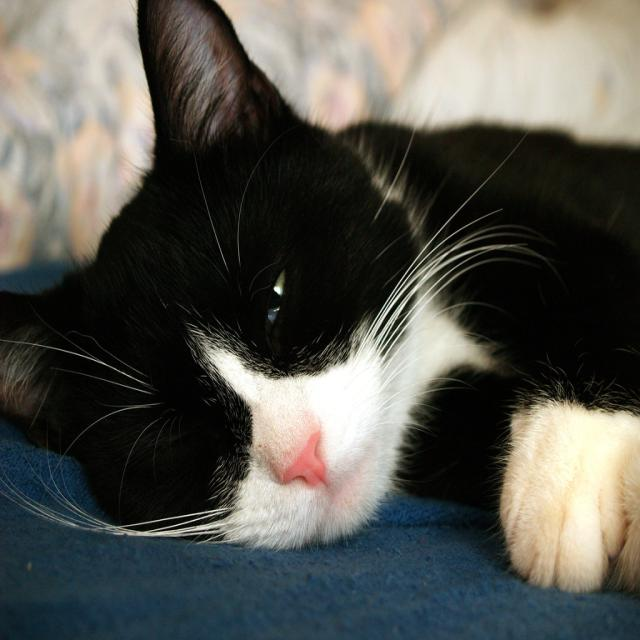left eye: (261, 264, 290, 329)
